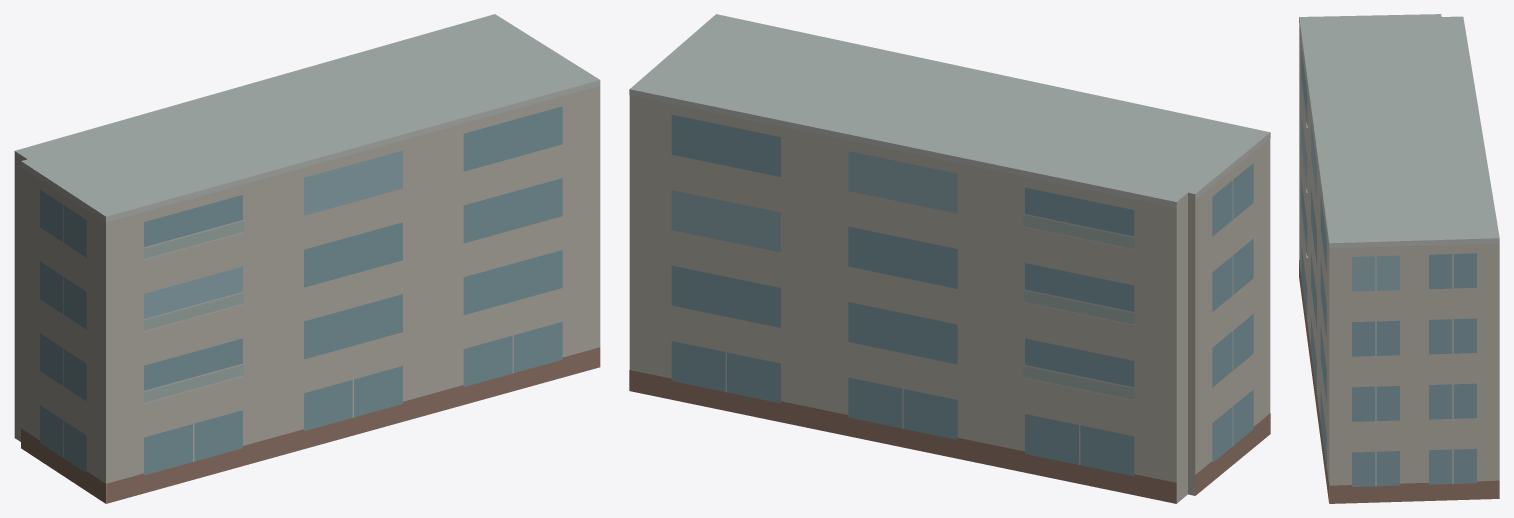
File: survey-upis-32709055.glb
3 renders of one model, left to right at view 1: azimuth 30°, elevation 25°; view 2: azimuth 150°, elevation 25°; view 3: azimuth 270°, elevation 25°, orthographic. The views are drawn at different scales.
Parts seen in each view (by area): view 1: survey-upis-32709055.tmp; view 2: survey-upis-32709055.tmp; view 3: survey-upis-32709055.tmp.
Part boxes in pixels (x1,y1,x2,y2): survey-upis-32709055.tmp: (14,14,600,503); survey-upis-32709055.tmp: (629,14,1270,503); survey-upis-32709055.tmp: (1299,14,1499,503).
Size of the model in its own units: 23.02 by 12.2 by 8.52.
